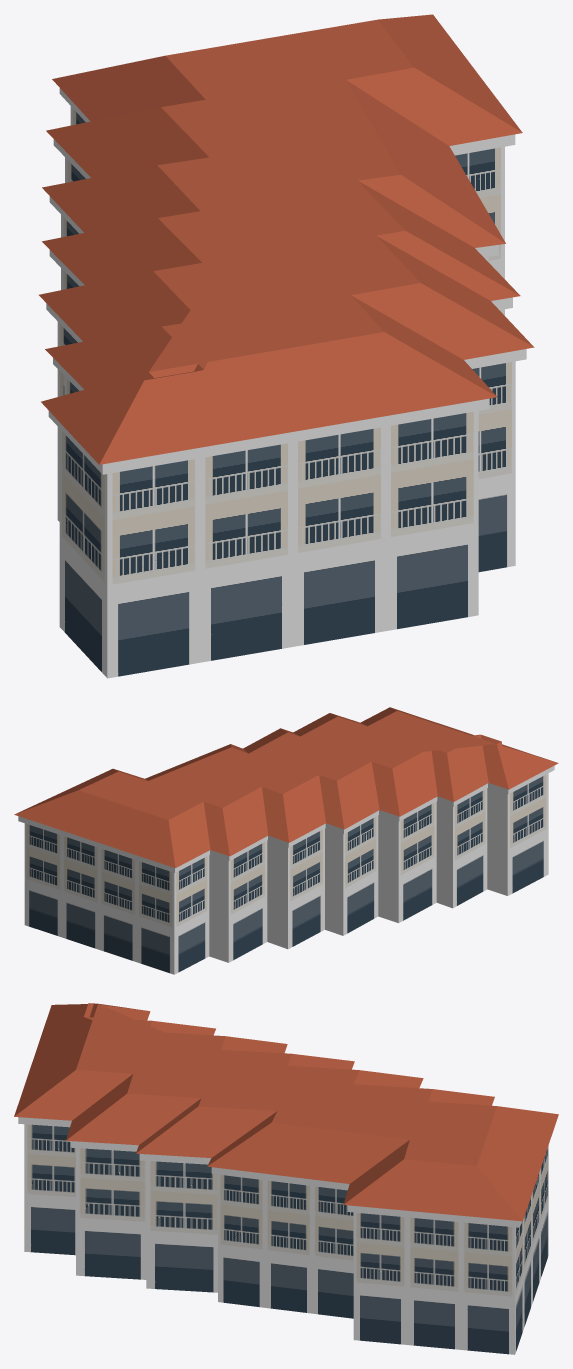
The model's file is lasislas.glb.
3 views of the same model, one above another, from view 1: azimuth 30°, elevation 25°; view 2: azimuth 150°, elevation 25°; view 3: azimuth 270°, elevation 25° (orthographic). The views are drawn at different scales.
Parts seen in each view (by area): view 1: lasislas_lod0; view 2: lasislas_lod0; view 3: lasislas_lod0.
Part boxes in pixels (bbox=[...]): lasislas_lod0: bbox=[39, 14, 534, 678]; lasislas_lod0: bbox=[14, 707, 558, 974]; lasislas_lod0: bbox=[14, 1003, 558, 1354].
Size of what is drawn, in the model's own units: 33.61 by 12 by 35.75.
4 materials, 2 textured.
